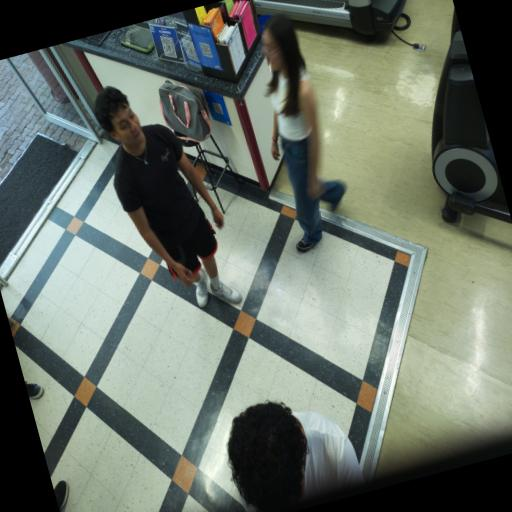person: (95, 87, 241, 307), (263, 15, 344, 252), (228, 402, 363, 510), (54, 481, 69, 511), (25, 381, 44, 399)
